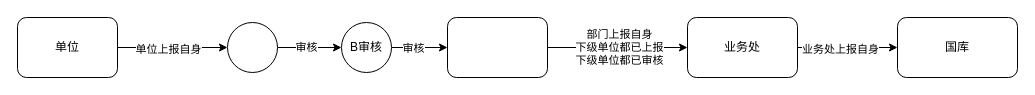
Some shapes in this 1035 by 95 pixel diagram are drawn without their labels. The shapes that lost their labels are listed below. From the top down, each one's box as (x1, y1, x2, y2) in pixels, then its label:
(226, 22, 278, 72): A审核
(446, 16, 548, 78): 部门
